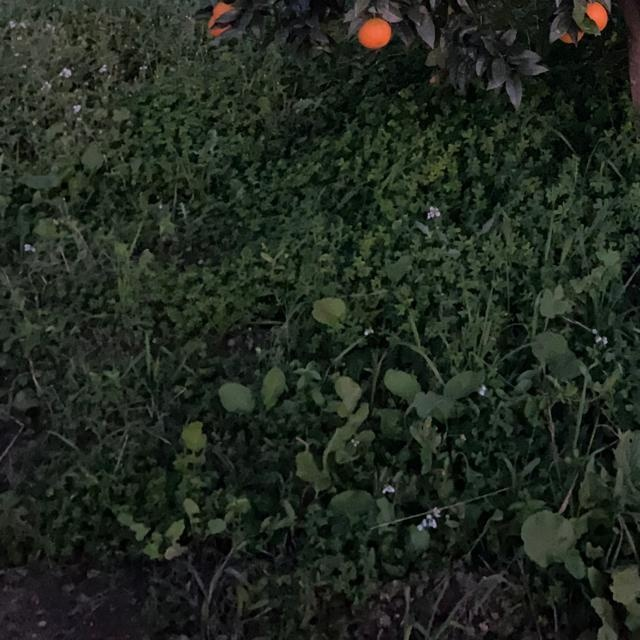orange: (556, 10, 590, 52), (358, 14, 394, 48), (576, 0, 610, 32), (214, 1, 234, 17), (207, 21, 225, 37)
